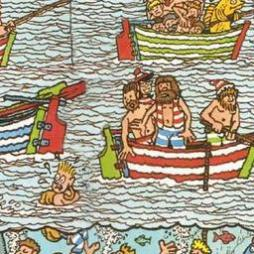wenda: (129, 63, 157, 104)
